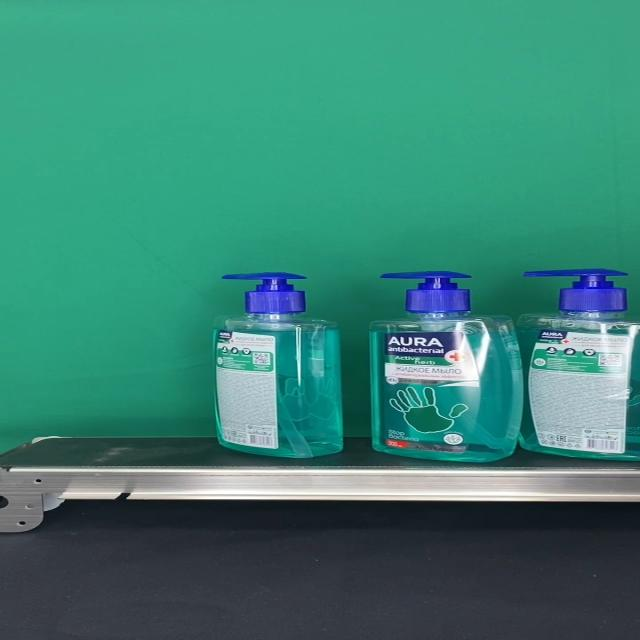Bottle: (369, 270, 524, 462), (210, 272, 344, 458), (515, 269, 640, 461)
Cap: (523, 269, 629, 312), (378, 271, 473, 313), (220, 272, 306, 312)
